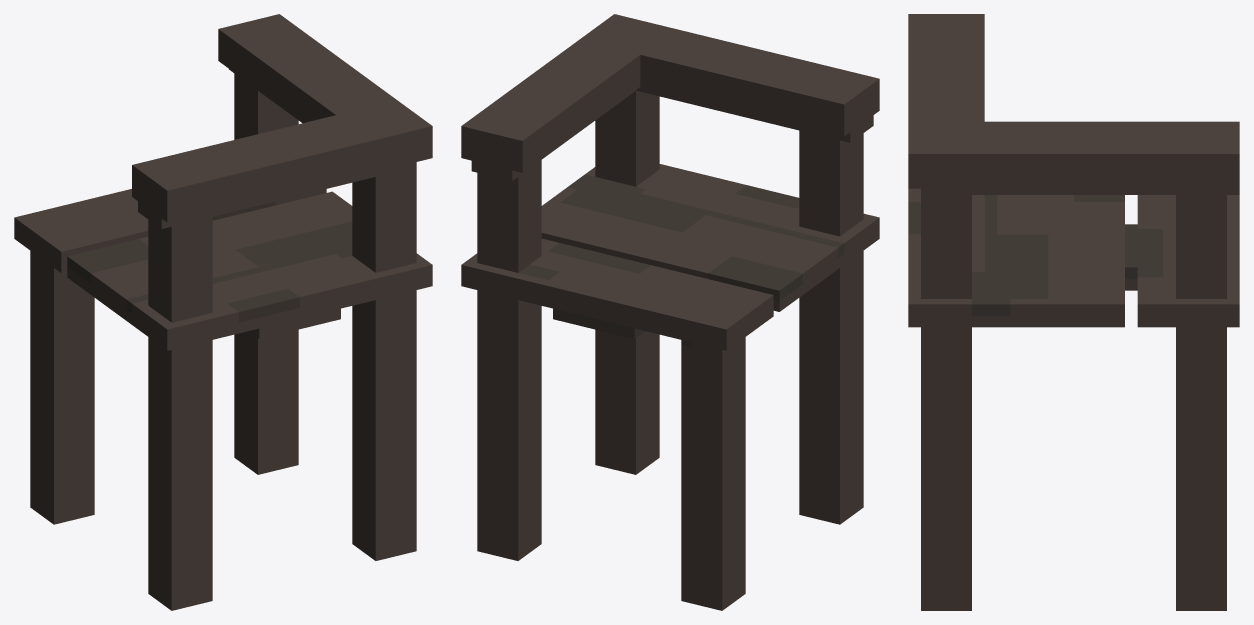
The model's file is Tilemap_Deco_C0_P015.obj.
3 views of the same model, side by side, from view 1: azimuth 30°, elevation 25°; view 2: azimuth 150°, elevation 25°; view 3: azimuth 270°, elevation 25° (orthographic). The views are drawn at different scales.
Bounding box in the file's own units: 2.6 × 4 × 2.6.
1 material, 1 textured.
